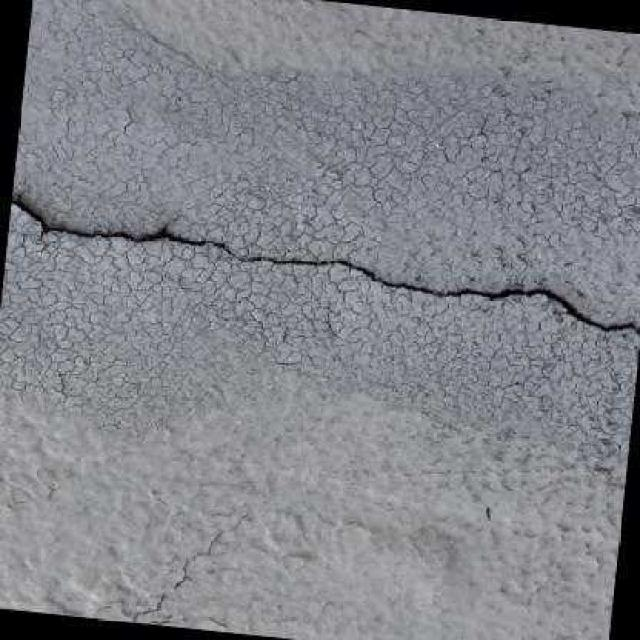D00: (10, 197, 640, 336)
